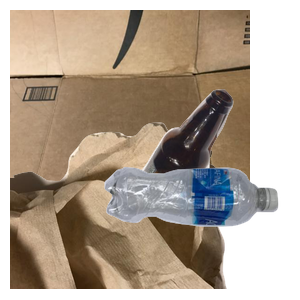cardboard: (10, 10, 250, 190)
glass: (130, 87, 300, 267)
plastic: (102, 165, 300, 300)
trash: (10, 120, 229, 300)
